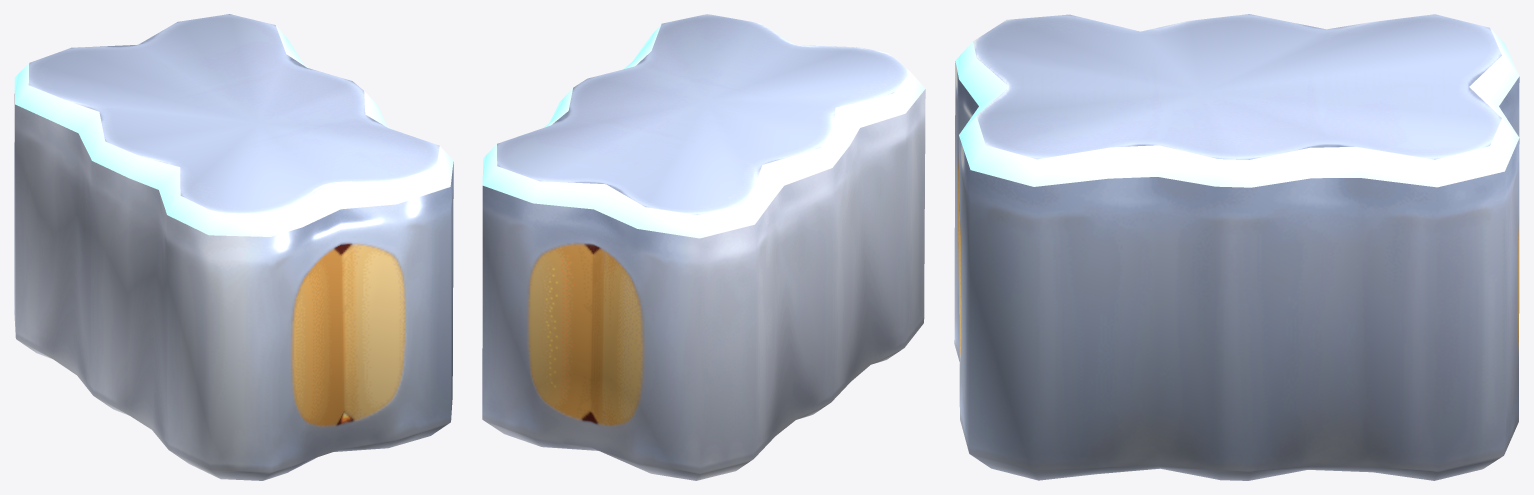
The model's file is obj_can02.gltf.
3 views of the same model, side by side, from view 1: azimuth 30°, elevation 25°; view 2: azimuth 150°, elevation 25°; view 3: azimuth 270°, elevation 25° (orthographic). The views are drawn at different scales.
Parts seen in each view (by area): view 1: obj_can02; view 2: obj_can02; view 3: obj_can02.
Part boxes in pixels (x1,y1,x2,y2): obj_can02: [14, 14, 453, 480]; obj_can02: [482, 14, 925, 480]; obj_can02: [954, 14, 1519, 480].
Size of what is drawn, in the model's own units: 0.389 by 0.3671 by 0.5772.
Materials: 2 (1 with a texture image).
